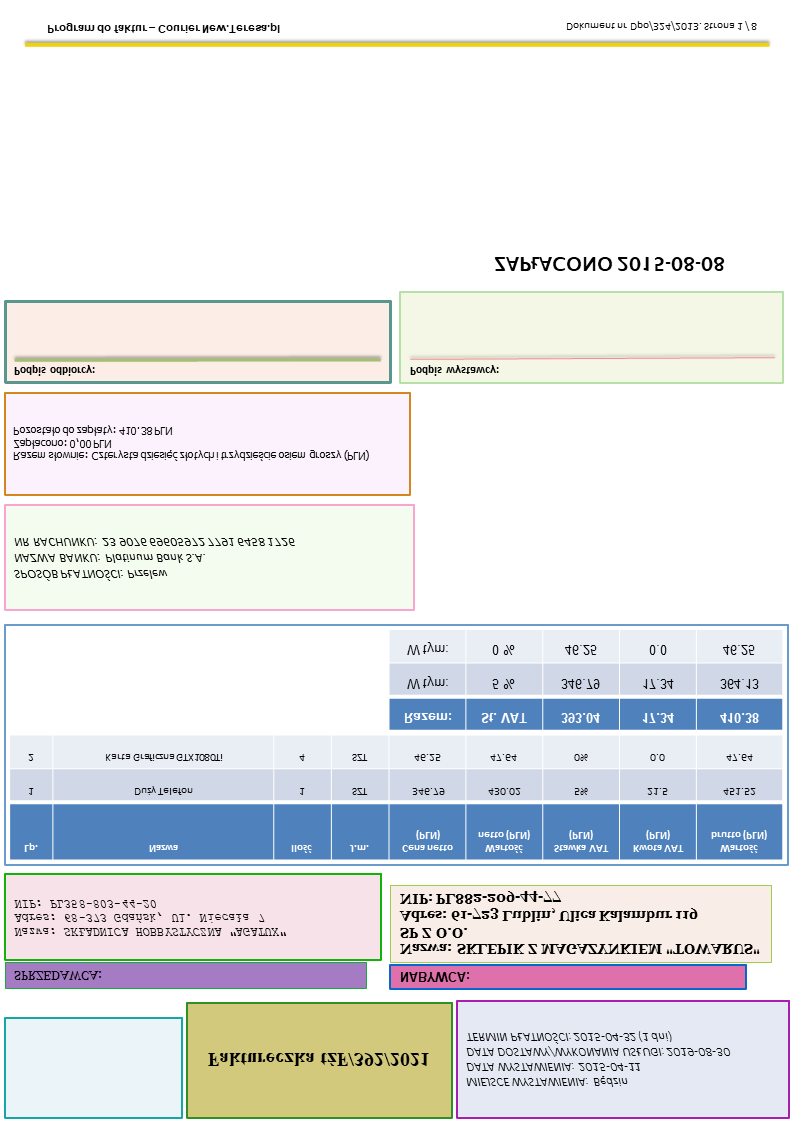Table: (9, 734, 783, 862), (388, 629, 783, 732)
TextBox: (397, 890, 762, 957), (464, 1029, 732, 1089), (12, 424, 371, 464), (11, 535, 297, 583), (12, 897, 287, 941), (206, 1050, 430, 1070), (493, 255, 725, 274), (44, 20, 282, 37), (564, 18, 759, 35), (11, 967, 105, 984), (407, 362, 500, 379), (11, 363, 97, 379), (398, 969, 471, 986)
